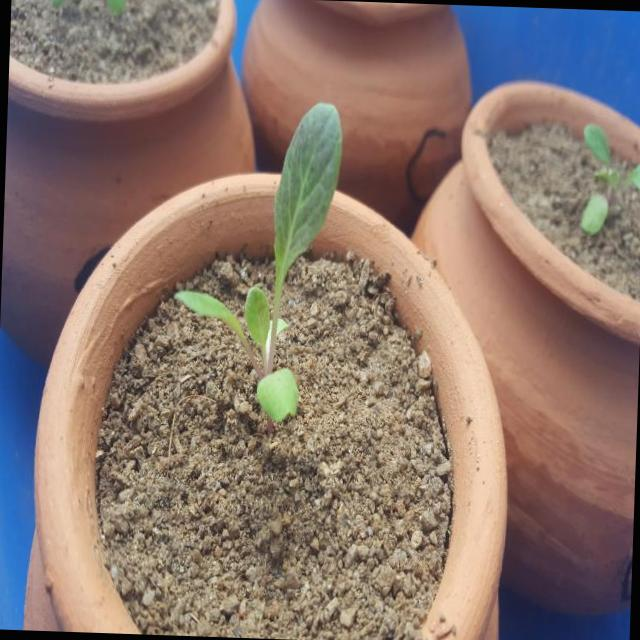Lettuce-Not-Ready-to-Harvest: (180, 96, 349, 442), (574, 118, 640, 244)
